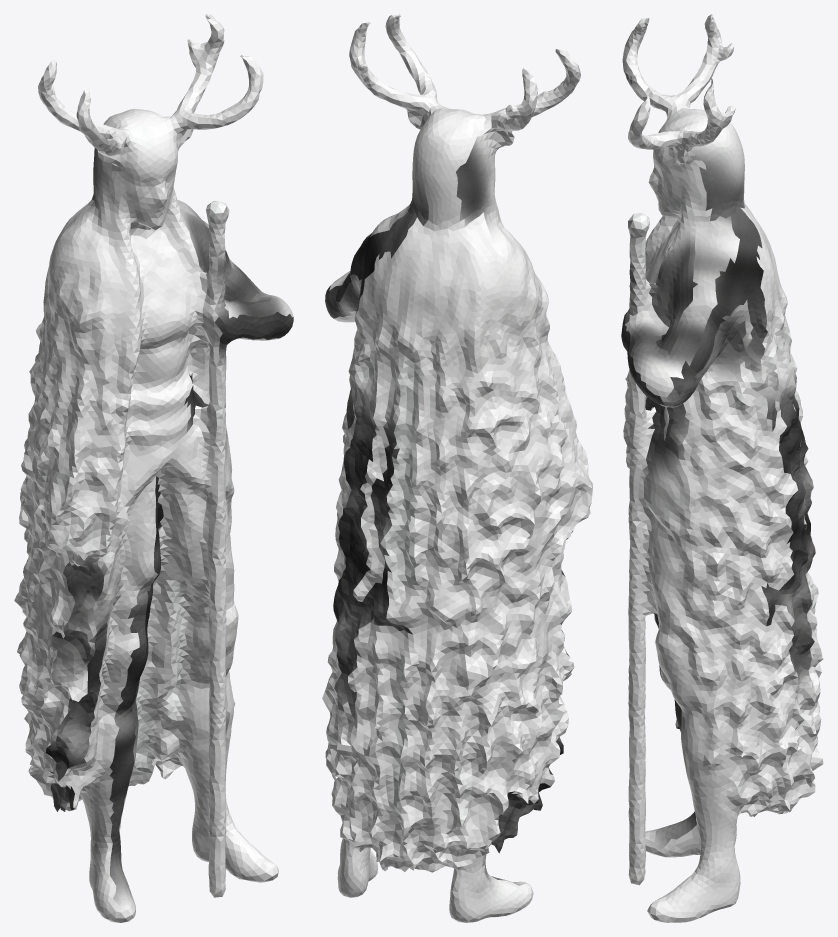
The model's file is druid.glb.
3 renders of one model, left to right at view 1: azimuth 30°, elevation 25°; view 2: azimuth 150°, elevation 25°; view 3: azimuth 270°, elevation 25°, orthographic. The views are drawn at different scales.
Visible parts, largest first — view 1: world; view 2: world; view 3: world.
Part boxes in pixels (x1=…): world: x1=14, y1=14, x2=293, y2=922; world: x1=322, y1=14, x2=592, y2=922; world: x1=621, y1=14, x2=823, y2=922.
Bounding box in the file's own units: 0.5767 × 1.9 × 0.421.
1 material, 1 textured.
